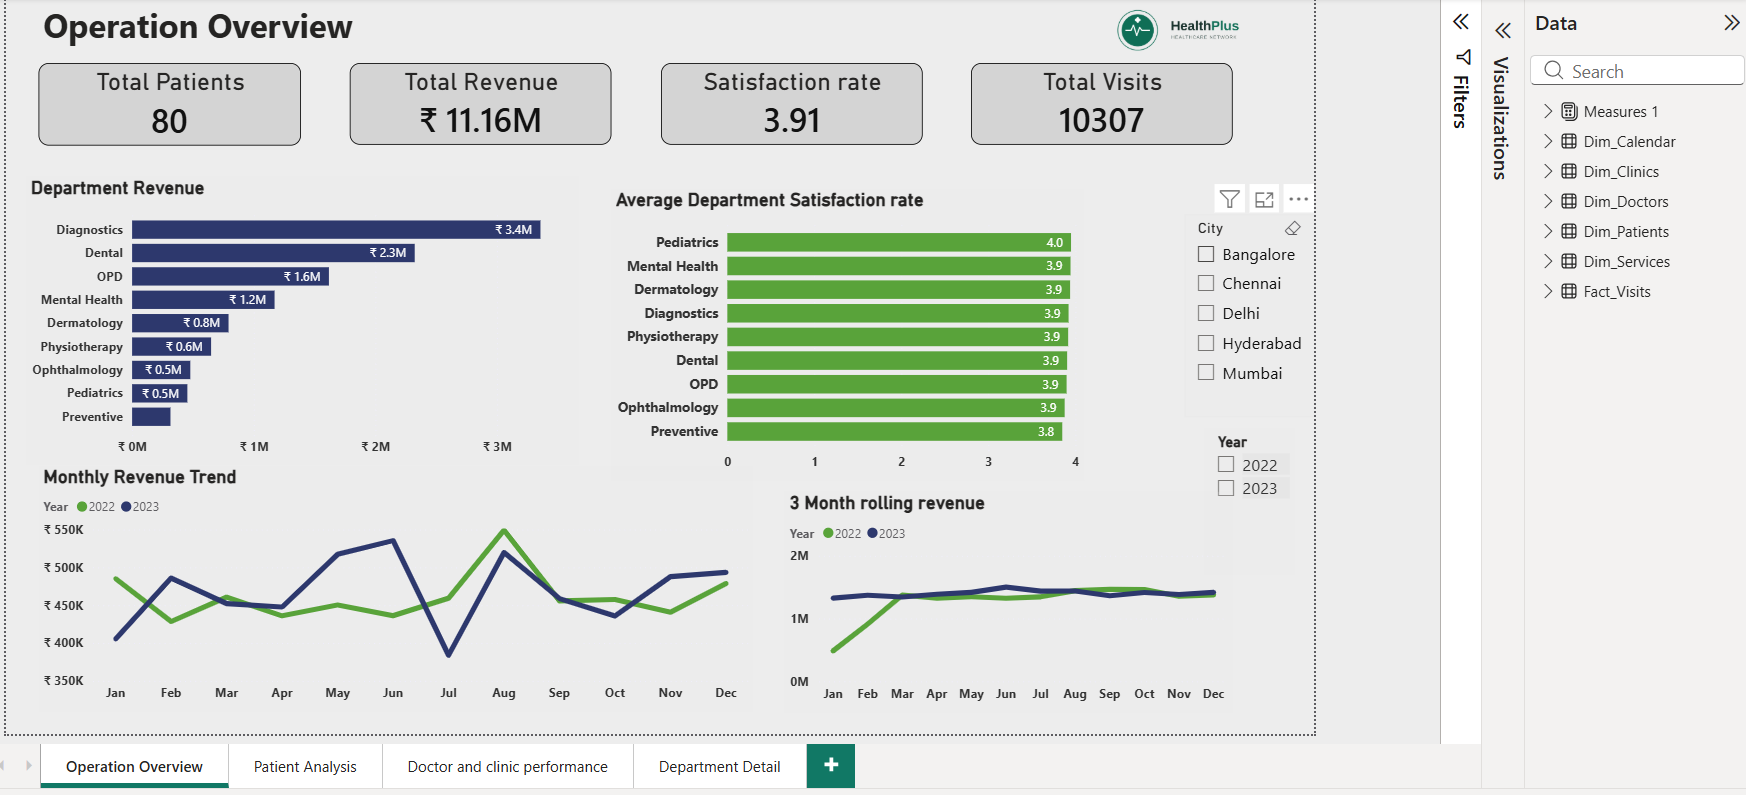

The page's visual inventory and layout, read from the dashboard file:
{"tool":"powerbi","page":{"name":"Operation Overview","canvas":[1280,720],"ordinal":0},"visuals":[{"type":"cardVisual","title":"Total Patients","fields":{"Data":["Dim_Patients.Patients"]},"box":[31.8,63.6,256.8,80.7],"z":0},{"type":"cardVisual","title":"Total Revenue","fields":{"Data":["Fact_Visits.Total revenue"]},"box":[336.4,64,256,80],"z":1000},{"type":"cardVisual","title":"Satisfaction rate","fields":{"Data":["Fact_Visits.Average Satisfaction rate"]},"box":[640.2,64,256,80],"z":2000},{"type":"cardVisual","title":"Total Visits","fields":{"Data":["Fact_Visits.Total Visits"]},"box":[944,64,256,80],"z":3000},{"type":"lineChart","title":"Monthly Revenue Trend","fields":{"Y":["Fact_Visits.Total revenue"],"Series":["Dim_Calendar.Year"],"Category":["Dim_Calendar.Month"]},"box":[31.8,457.3,699.5,240.9],"z":4000},{"type":"clusteredBarChart","title":" Department Revenue","fields":{"Category":["Dim_Services.Department"],"Y":["Fact_Visits.Total revenue"]},"box":[19.6,174.9,540.5,282.5],"z":5000},{"type":"clusteredBarChart","title":"Average  Department Satisfaction rate ","fields":{"Y":["Measures 1.Average Satisfaction rate"],"Category":["Dim_Services.Department"]},"box":[591.9,187.1,463.5,284.9],"z":6000},{"type":"slicer","fields":{"Values":["Dim_Calendar.Year"]},"box":[1172.7,420.7,88,144.3],"z":7000},{"type":"slicer","fields":{"Values":["Dim_Clinics.City"]},"box":[1153.1,211.6,127.2,198.1],"z":8000},{"type":"textbox","box":[5,0,1275,63.8],"z":9000},{"type":"bookmarkNavigator","box":[0,0,600,50],"z":10000},{"type":"lineChart","title":"3 Month rolling revenue","fields":{"Series":["Dim_Calendar.Year"],"Category":["Dim_Calendar.Month"],"Y":["Measures 1.Rolling 3M Average"]},"box":[762.4,482.8,438.3,215.7],"z":11000},{"type":"image","box":[1072.4,0,207.9,63.6],"z":12000}]}

Visuals, with their boxes on the page's 1280x720 design canvas (x1, y1, x2, y2). These are canvas units, not pixel positions in the 1746x795 screenshot, which may show the page scaled, cropped or inside an application window:
"Total Patients" cardVisual: select_region(32, 64, 289, 144)
"Total Revenue" cardVisual: select_region(336, 64, 592, 144)
"Satisfaction rate" cardVisual: select_region(640, 64, 896, 144)
"Total Visits" cardVisual: select_region(944, 64, 1200, 144)
"Monthly Revenue Trend" lineChart: select_region(32, 457, 731, 698)
" Department Revenue" clusteredBarChart: select_region(20, 175, 560, 457)
"Average  Department Satisfaction rate " clusteredBarChart: select_region(592, 187, 1055, 472)
slicer - Dim_Calendar.Year: select_region(1173, 421, 1261, 565)
slicer - Dim_Clinics.City: select_region(1153, 212, 1280, 410)
textbox: select_region(5, 0, 1280, 64)
bookmarkNavigator: select_region(0, 0, 600, 50)
"3 Month rolling revenue" lineChart: select_region(762, 483, 1201, 698)
image: select_region(1072, 0, 1280, 64)
